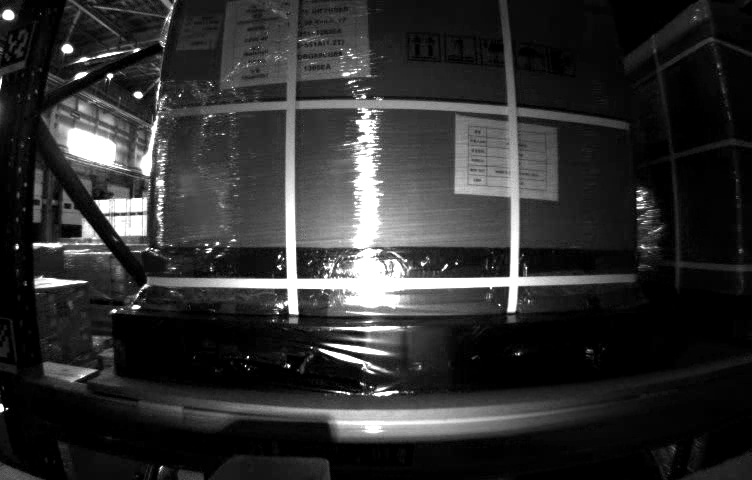True Barcode: (182, 13, 217, 48)
